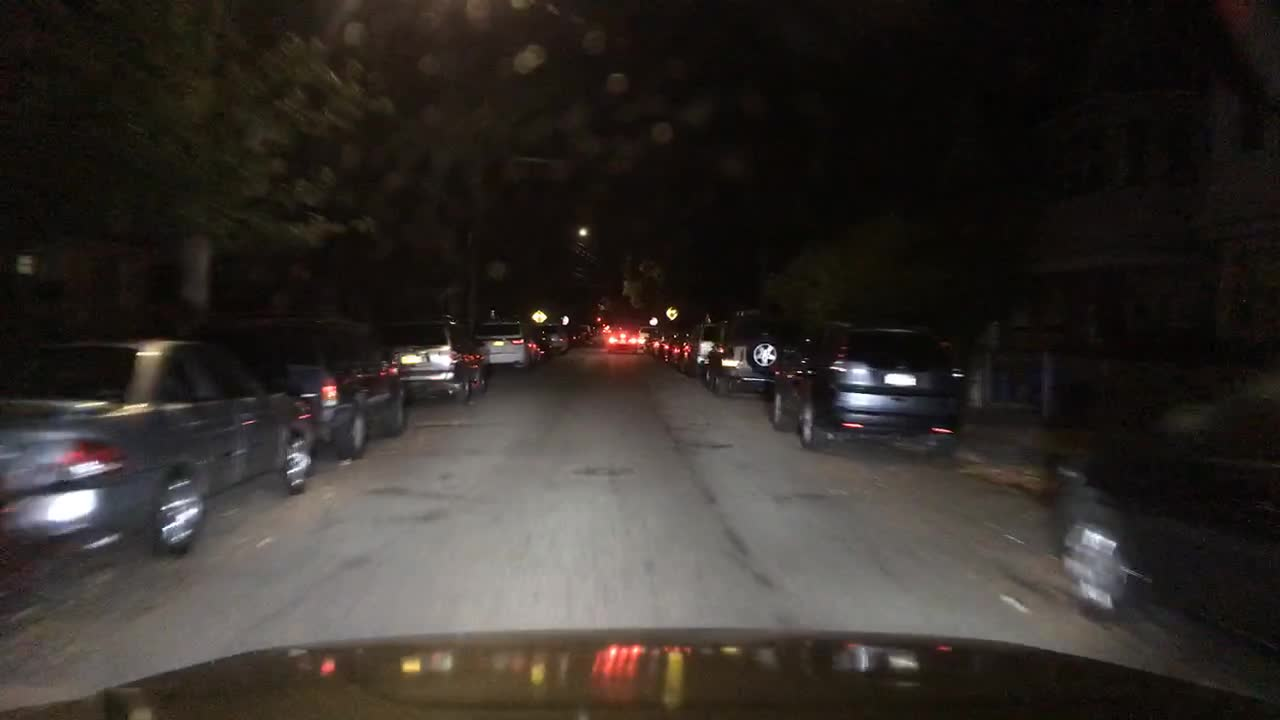car: (1048, 336, 1276, 658), (1, 336, 316, 560), (768, 319, 965, 462), (249, 311, 409, 460), (374, 305, 483, 406), (702, 310, 801, 396), (478, 317, 529, 374), (683, 322, 723, 373), (595, 319, 640, 353), (536, 318, 569, 357), (661, 333, 692, 365), (569, 318, 596, 346), (634, 324, 659, 353), (527, 336, 548, 364), (646, 333, 665, 355)
